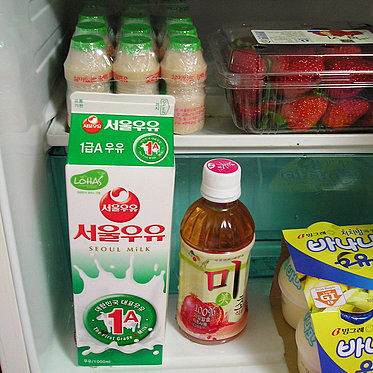milk: (64, 92, 176, 367)
